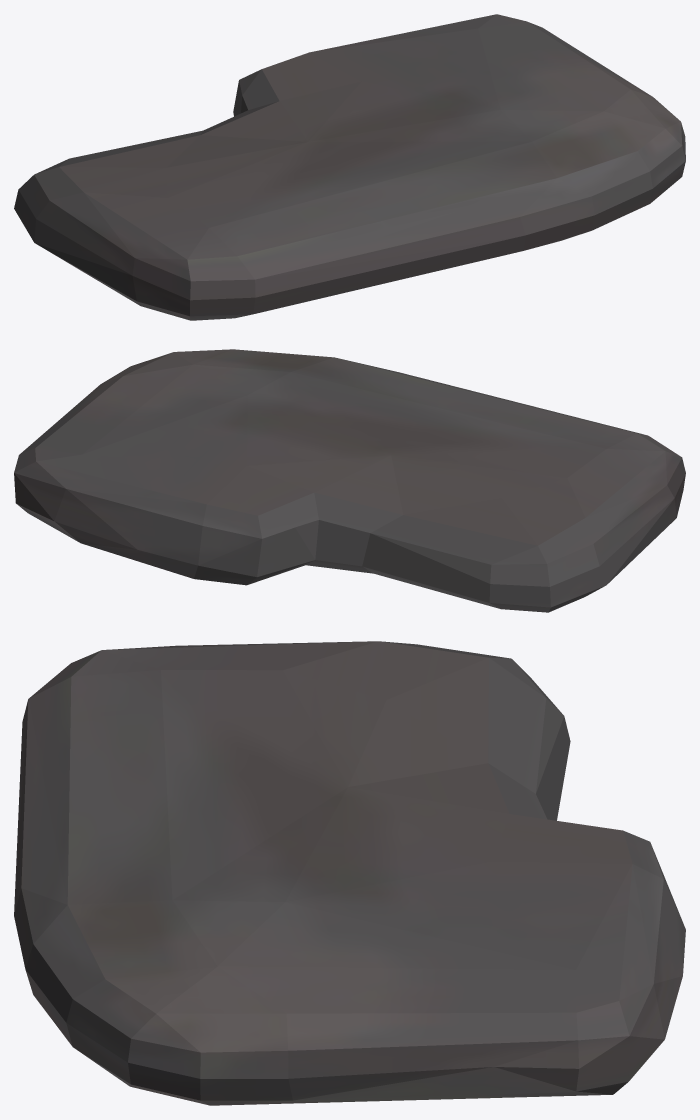
The model's file is piedra1Dani.fbx.
The picture shows the model from 3 angles, top to bottom: view 1: azimuth 30°, elevation 25°; view 2: azimuth 150°, elevation 25°; view 3: azimuth 270°, elevation 25°; orthographic projection. The views are drawn at different scales.
Parts seen in each view (by area): view 1: Cube.001; view 2: Cube.001; view 3: Cube.001.
Boxes of the visible parts, x1,y1,x2,y2 form: Cube.001: (14,14,685,320); Cube.001: (14,349,685,612); Cube.001: (14,641,685,1105).
Bounding box in the file's own units: 3.46 × 0.4748 × 2.35.
